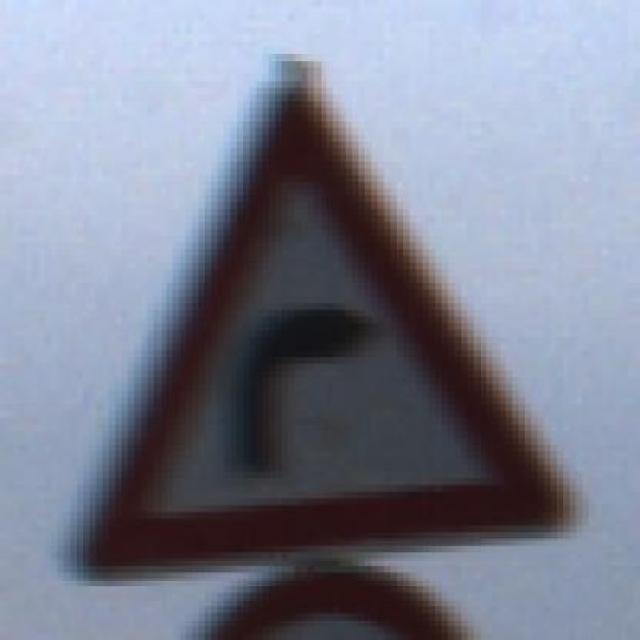Dangerous Rright Curve Ahead: (39, 61, 584, 573)
